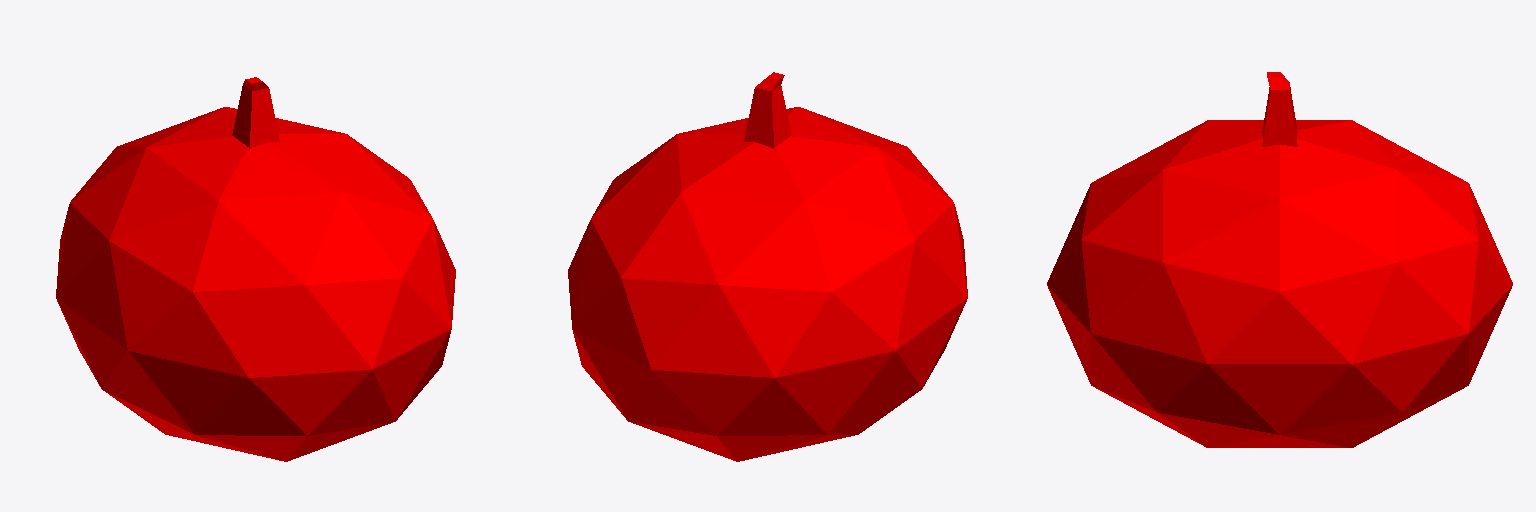
Rendered from pumpkin.obj.
The picture shows the model from 3 angles: view 1: azimuth 30°, elevation 25°; view 2: azimuth 150°, elevation 25°; view 3: azimuth 270°, elevation 25°; orthographic projection.
Parts seen in each view (by area): view 1: Icosphere; view 2: Icosphere; view 3: Icosphere.
Boxes of the visible parts, x1=… form: Icosphere: x1=56, y1=77, x2=455, y2=461; Icosphere: x1=568, y1=72, x2=967, y2=461; Icosphere: x1=1047, y1=72, x2=1512, y2=447.
Bounding box in the file's own units: 0.3452 × 0.3599 × 0.4253.